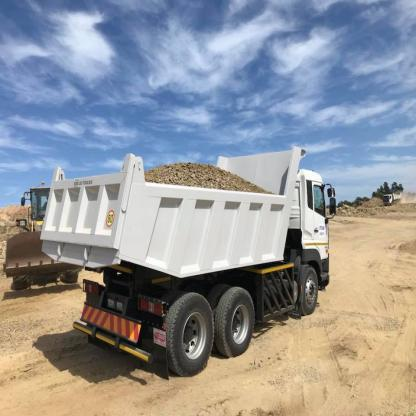dump_truck: (43, 135, 337, 382)
